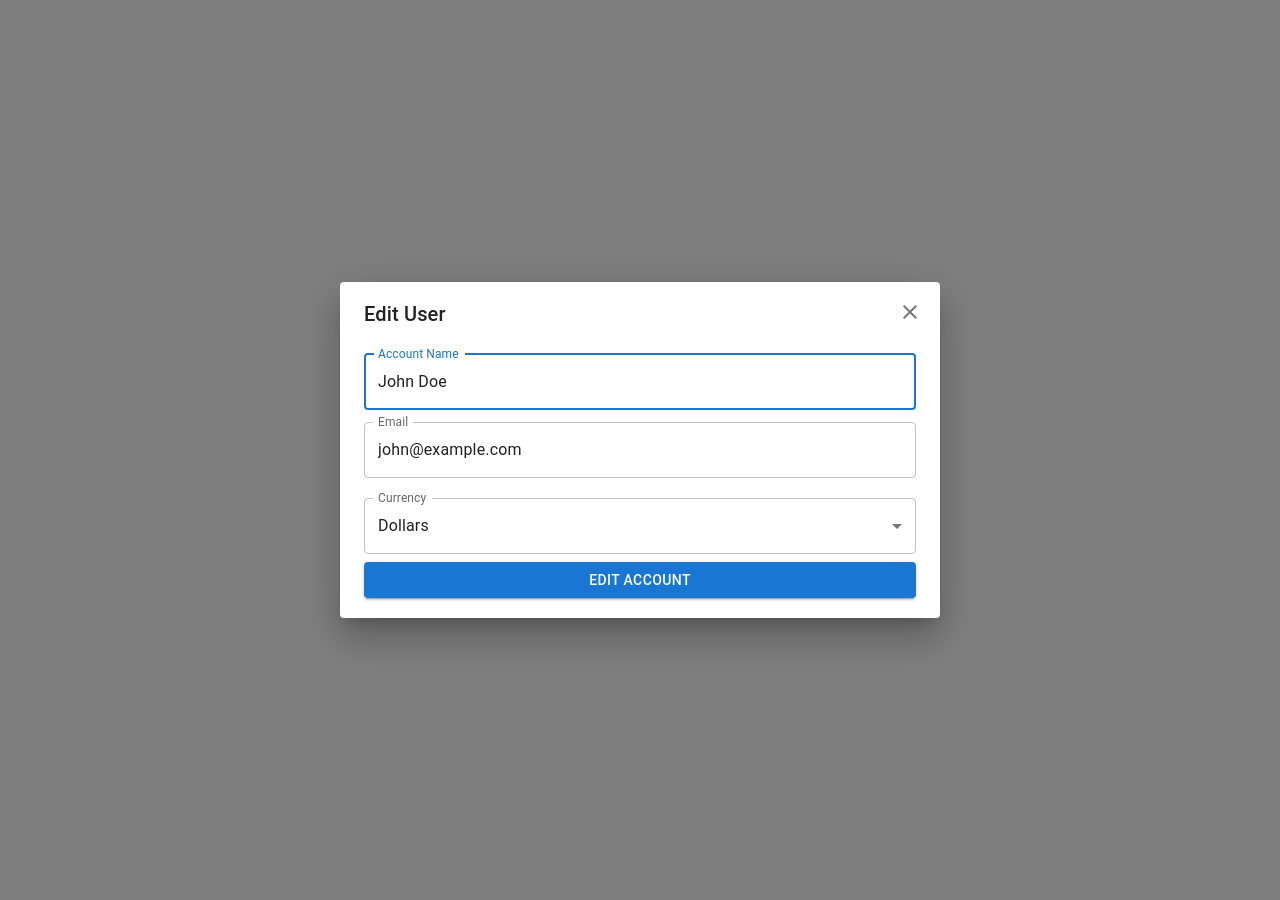
Test case: UserModal › should display error when email is invalid and submit button is clicked
This screenshot has width=1280, height=900.
Replace the text in the field labelled "Email" with "invalidemail" at (640, 450), box [364, 422, 916, 478]
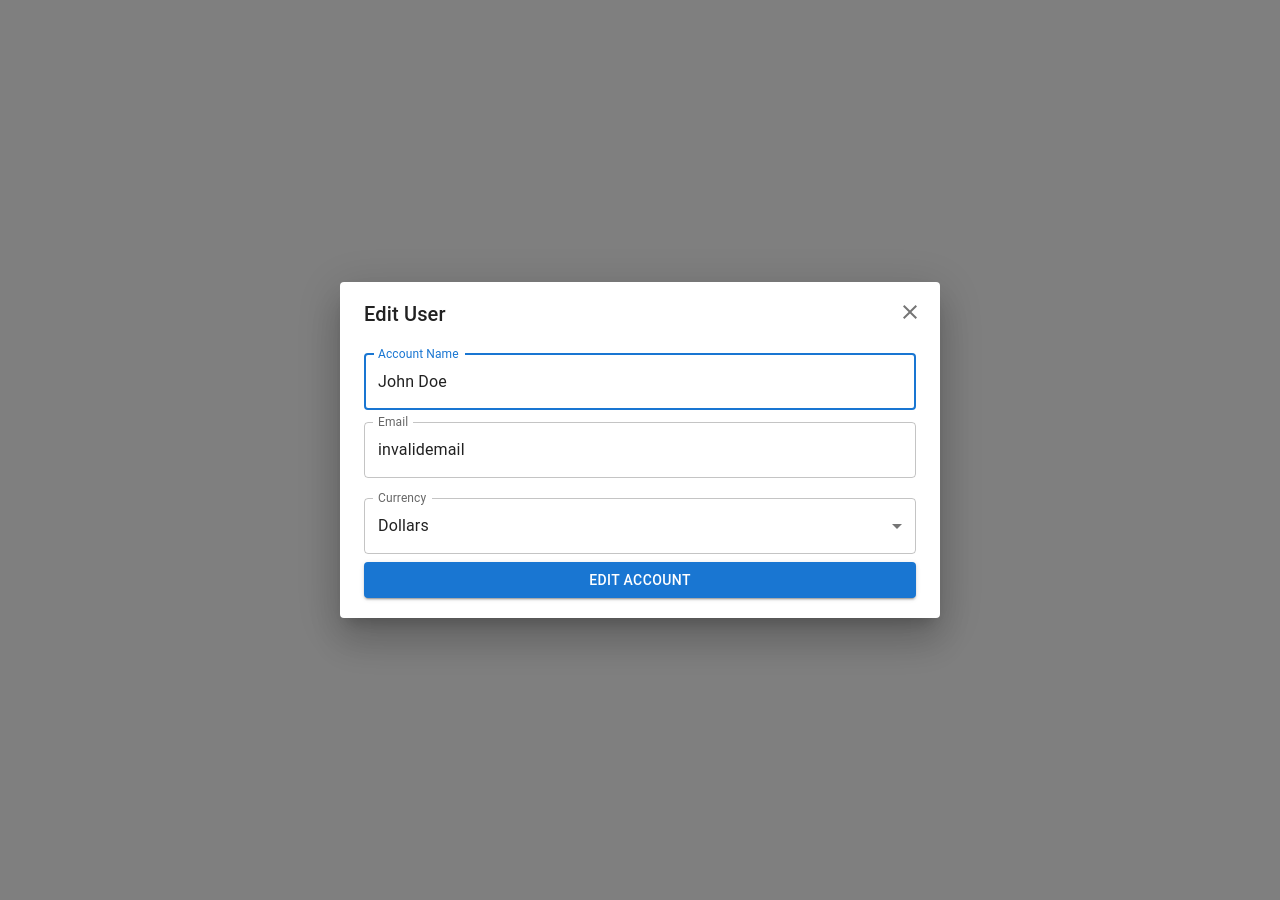
Click the button "Edit Account" at (640, 580), box [364, 562, 916, 598]
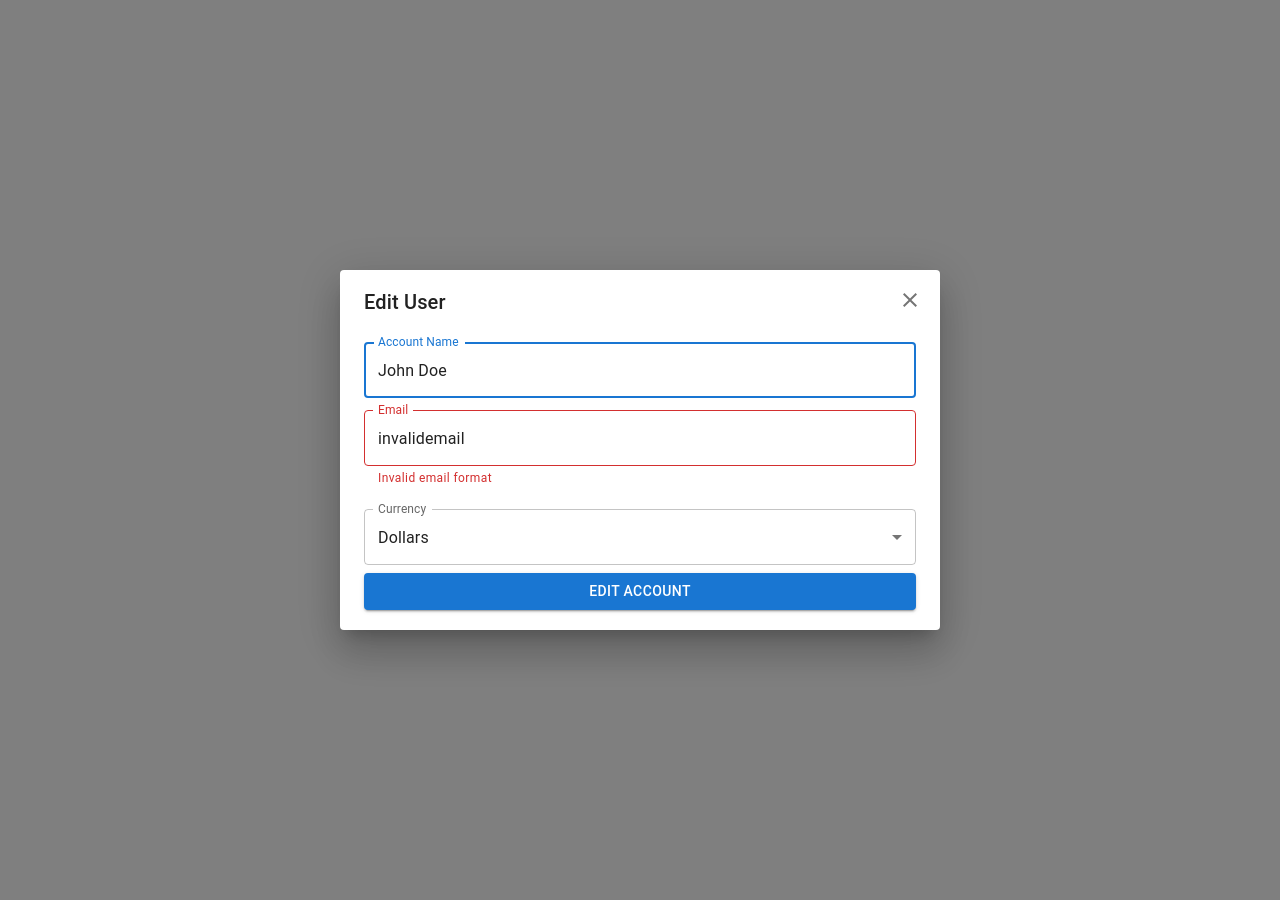
expect the text "Invalid email format" is shown: met, box [378, 471, 492, 485]
